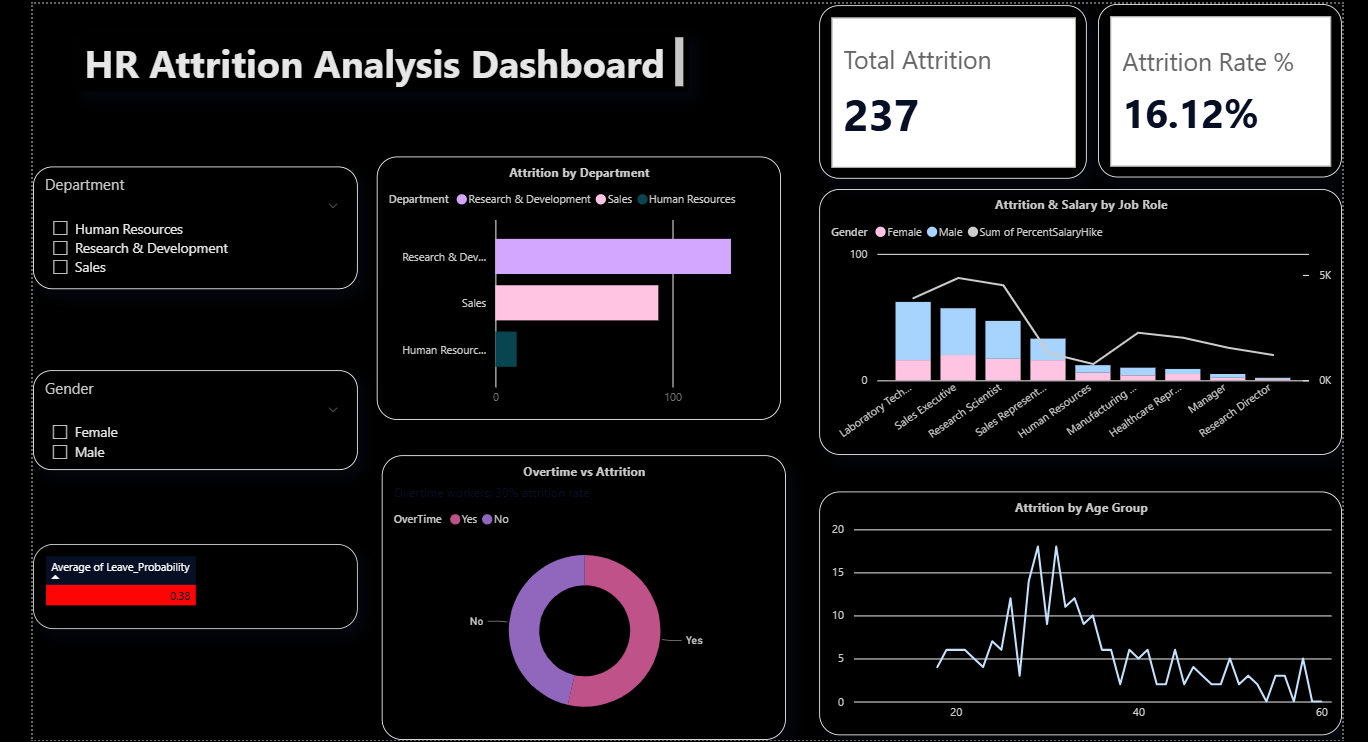

Layout of this report page (visuals, bound fields, positions):
{"tool":"powerbi","page":{"name":"Page 1","canvas":[1280,720],"ordinal":0},"visuals":[{"type":"cardVisual","fields":{"Data":["Sum(hr_attrition_clean.Attrition_Num)"]},"box":[768.9,1.2,261.6,169.9],"z":0},{"type":"cardVisual","fields":{"Data":["hr_attrition_clean.Attrition Rate %"]},"box":[1041.5,0,238.4,169.9],"z":1000},{"type":"barChart","title":"Attrition by Department","fields":{"Category":["hr_attrition_clean.Department"],"Y":["Sum(hr_attrition_clean.Attrition_Num)"],"Series":["hr_attrition_clean.Department"]},"box":[336.2,149.1,394.8,257.9],"z":2000},{"type":"donutChart","title":"Overtime vs Attrition","fields":{"Category":["hr_attrition_clean.OverTime"],"Y":["Sum(hr_attrition_clean.Attrition_Num)"]},"box":[341.1,441.3,394.8,278.7],"z":3000},{"type":"lineChart","title":"Attrition by Age Group","fields":{"Y":["Sum(hr_attrition_clean.Attrition_Num)"],"Category":["hr_attrition_clean.Age"]},"box":[768.9,476.7,511,238.4],"z":4000},{"type":"lineStackedColumnComboChart","title":"Attrition & Salary by Job Role","fields":{"Category":["hr_attrition_clean.JobRole"],"Series":["hr_attrition_clean.Gender"],"Y":["Sum(hr_attrition_clean.Attrition_Num)"],"Y2":["Sum(hr_attrition_clean.PercentSalaryHike)"]},"box":[768.9,180.9,511,260.4],"z":5000},{"type":"slicer","title":"Department","fields":{"Values":["hr_attrition_clean.Department"]},"box":[0,158.9,317.8,119.8],"z":6000},{"type":"slicer","title":"Gender","fields":{"Values":["hr_attrition_clean.Gender"]},"box":[0,358.2,317.8,97.8],"z":7000},{"type":"tableEx","fields":{"Values":["Avg(hr_model_results.Leave_Probability)"]},"box":[0,528.1,317.8,83.1],"z":8000},{"type":"textbox","box":[44,26.9,596.5,58.7],"z":9000}]}

Visuals, with their boxes in screenshot pixels (x1, y1, x2, y2):
cardVisual - Sum(hr_attrition_clean.Attrition_Num): [816, 5, 1082, 177]
cardVisual - hr_attrition_clean.Attrition Rate %: [1093, 4, 1335, 176]
"Attrition by Department" barChart: [377, 155, 778, 417]
"Overtime vs Attrition" donutChart: [382, 451, 783, 734]
"Attrition by Age Group" lineChart: [816, 487, 1335, 729]
"Attrition & Salary by Job Role" lineStackedColumnComboChart: [816, 187, 1335, 451]
"Department" slicer: [36, 165, 358, 286]
"Gender" slicer: [36, 367, 358, 466]
tableEx - Avg(hr_model_results.Leave_Probability): [36, 540, 358, 624]
textbox: [80, 31, 686, 90]
